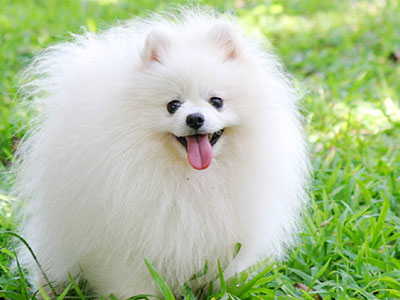pomeranian: (19, 7, 315, 295)
